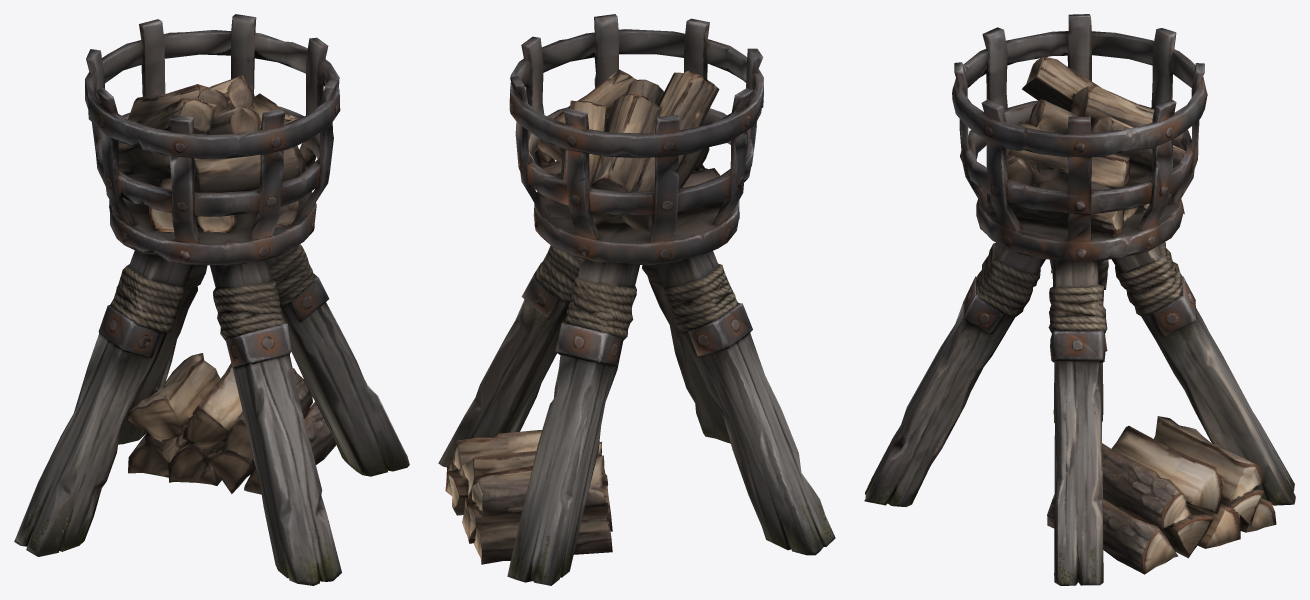
Rendered from SignalBeacon.gltf.
3 renders of one model, left to right at view 1: azimuth 30°, elevation 25°; view 2: azimuth 150°, elevation 25°; view 3: azimuth 270°, elevation 25°, orthographic.
Visible parts, largest first — view 1: lo; view 2: lo; view 3: lo.
Boxes of the visible parts, box(x1,y1,x2,y2) form: lo: box(14, 14, 409, 585); lo: box(438, 14, 835, 585); lo: box(864, 14, 1295, 585).
Size of the model in its own units: 3.38 by 3.78 by 3.41.
Materials: 1 (1 with a texture image).
